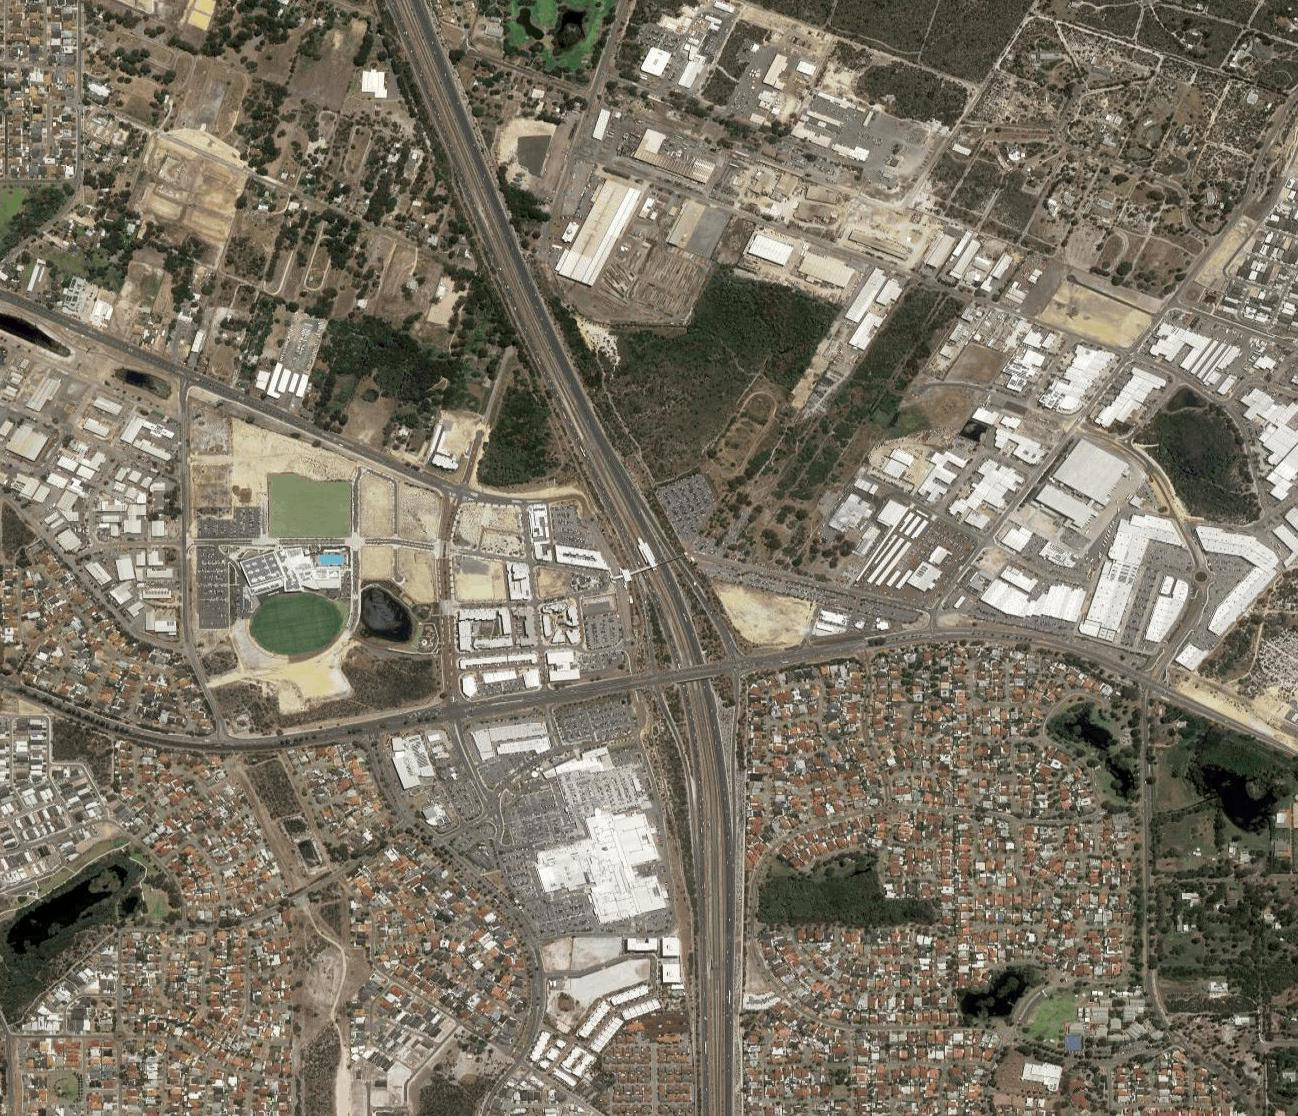industrial: (831, 275, 1298, 677), (494, 769, 698, 1069), (565, 97, 830, 287), (444, 496, 603, 688)
motorway: (682, 827, 748, 1116), (772, 617, 944, 667), (304, 697, 459, 751), (616, 645, 772, 695), (1081, 650, 1199, 715), (458, 672, 613, 722), (429, 99, 494, 208), (474, 199, 539, 307), (517, 306, 582, 414), (570, 407, 635, 516), (610, 501, 675, 609), (116, 720, 304, 757), (387, 1, 453, 108), (657, 610, 722, 718), (675, 718, 740, 826), (1, 677, 118, 734), (946, 613, 1085, 658)
train_station: (629, 529, 663, 580)
